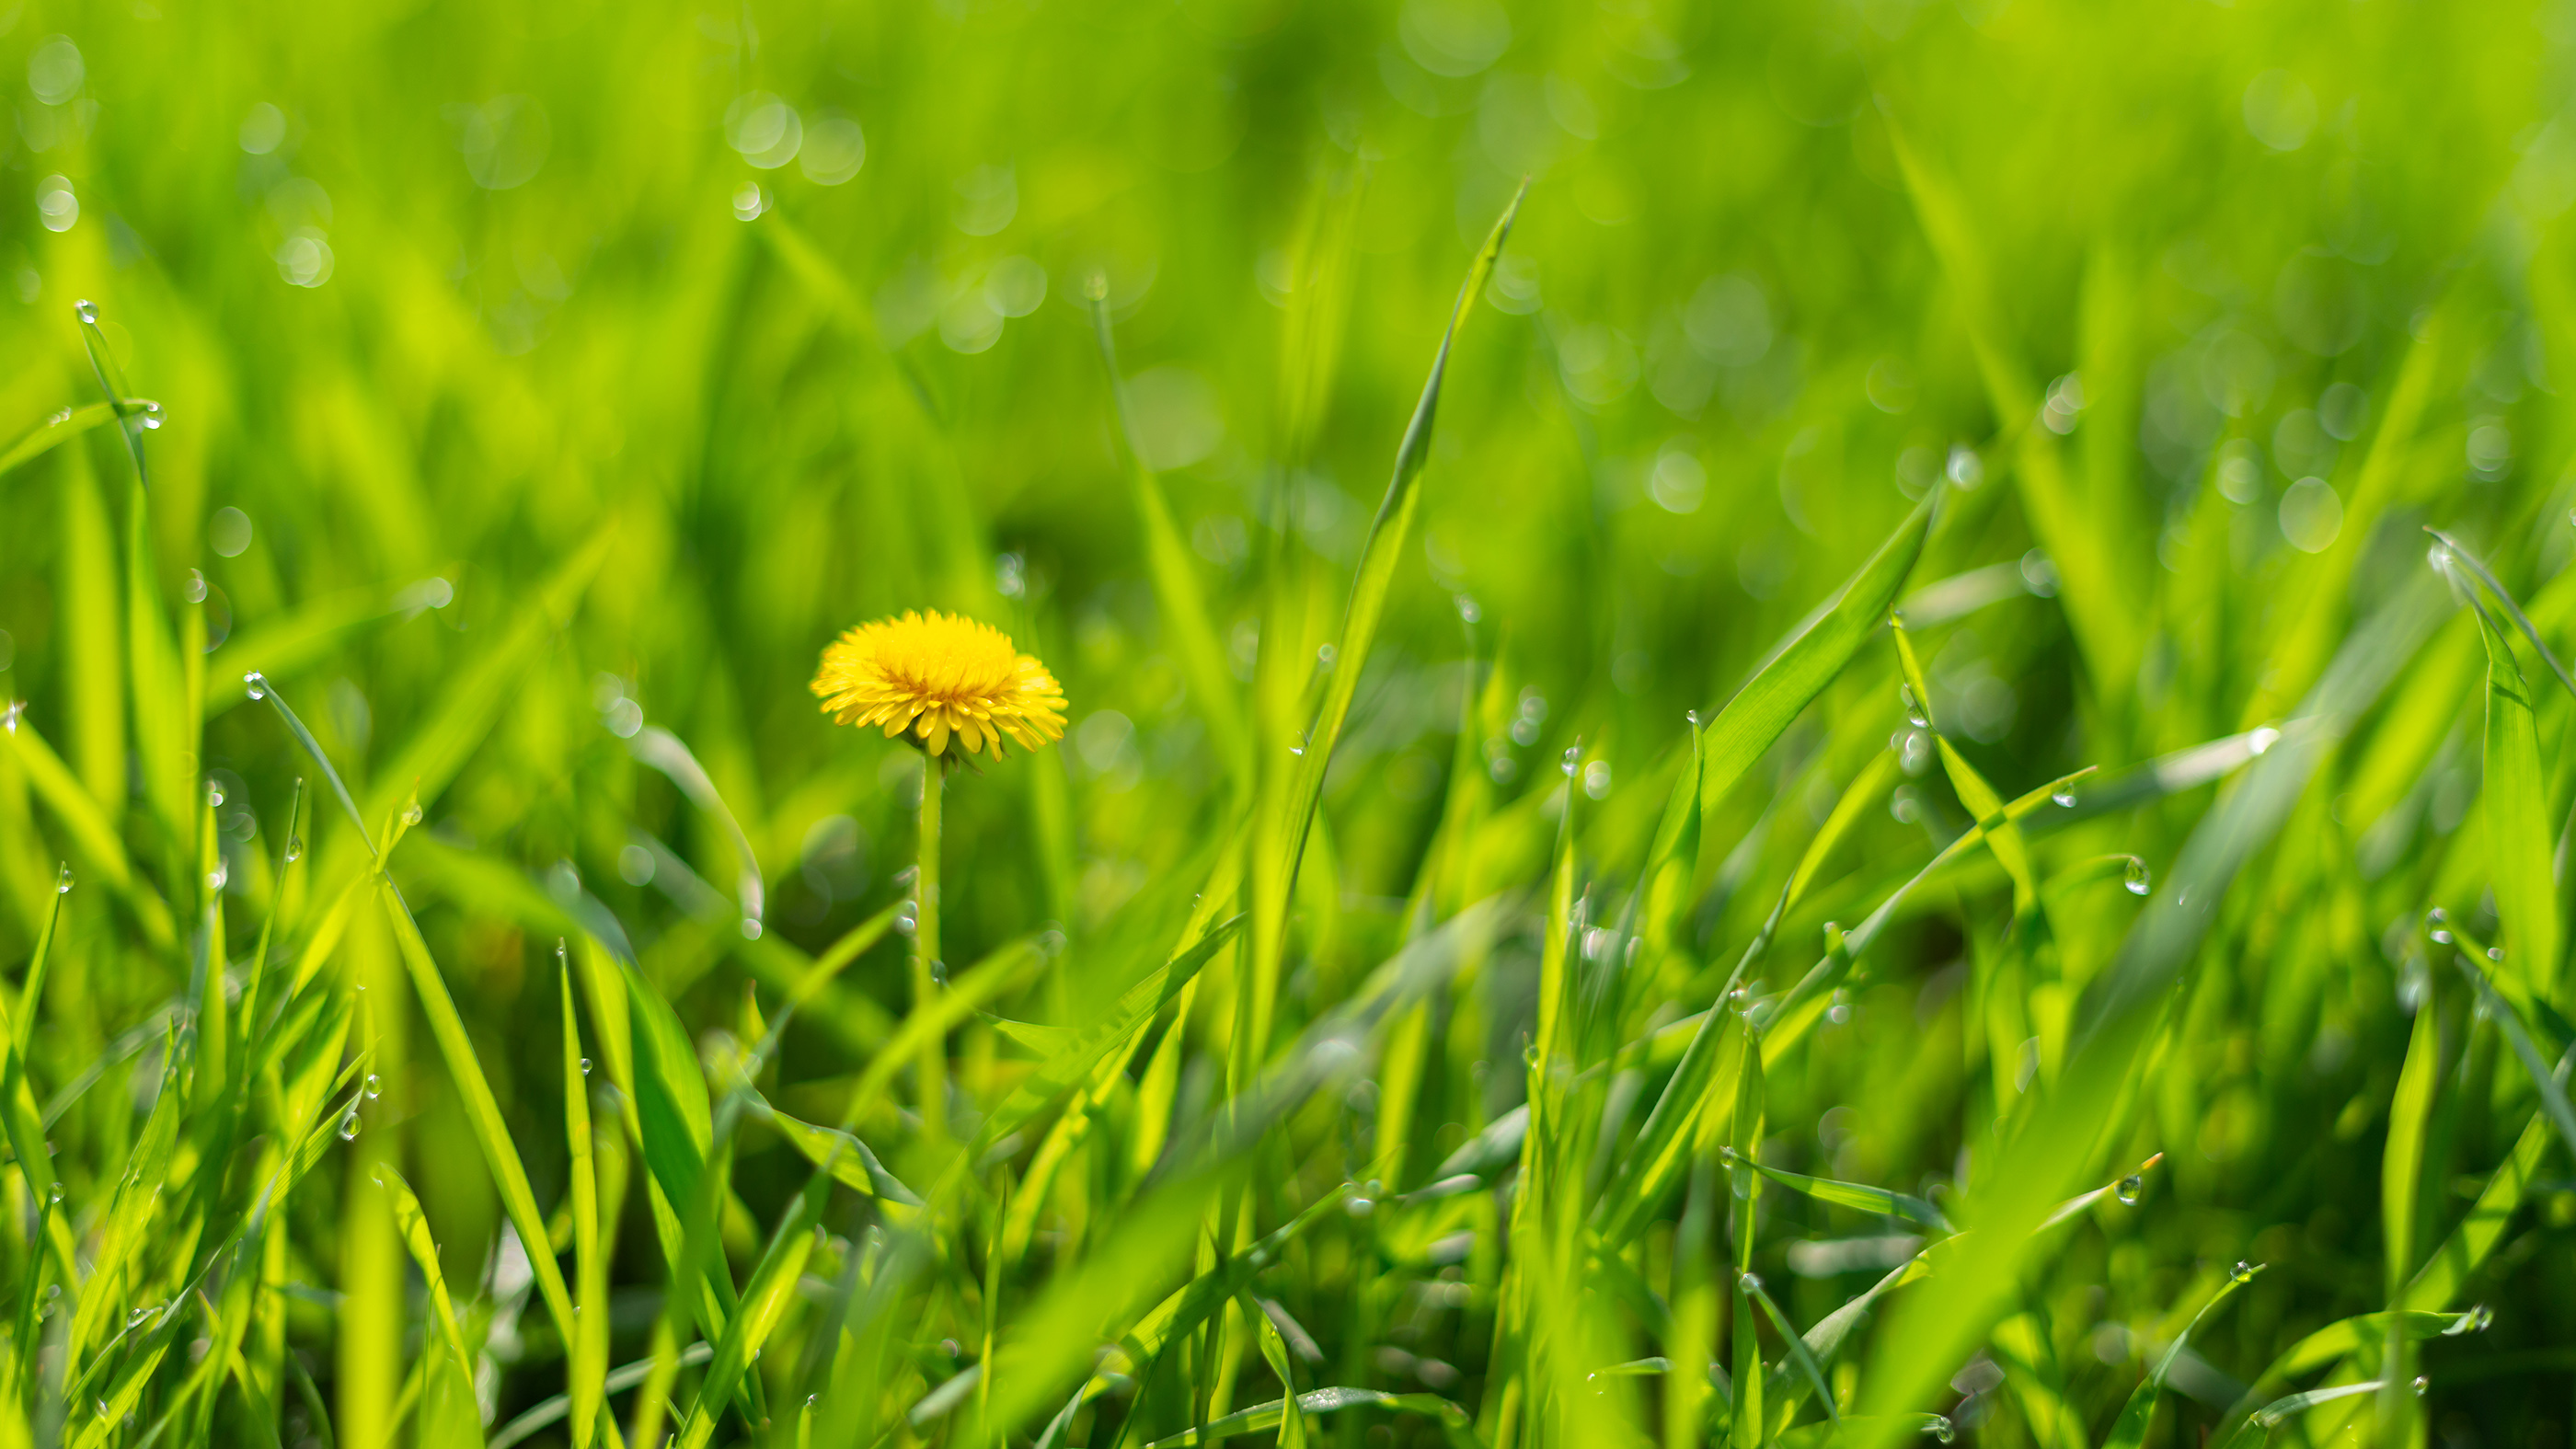grass: (9, 281, 2576, 1449)
